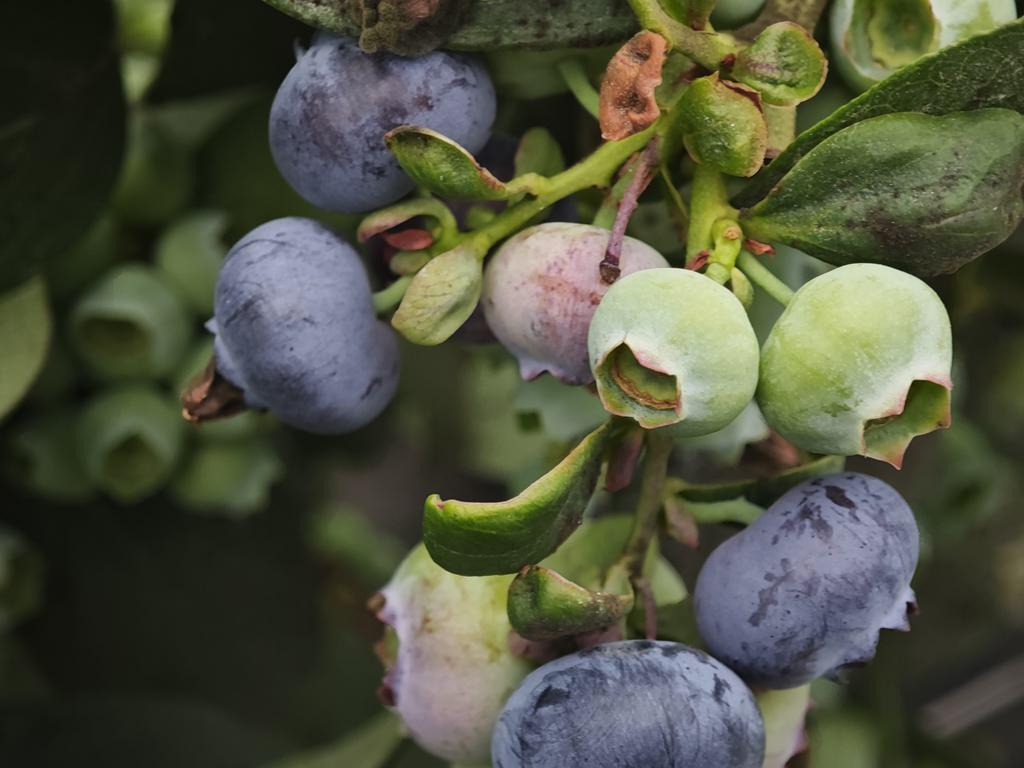RipeBlueBerry: (688, 469, 927, 696), (202, 212, 408, 438), (264, 23, 502, 218)
UnripeBlueBerry: (759, 259, 959, 471), (583, 262, 766, 443)
